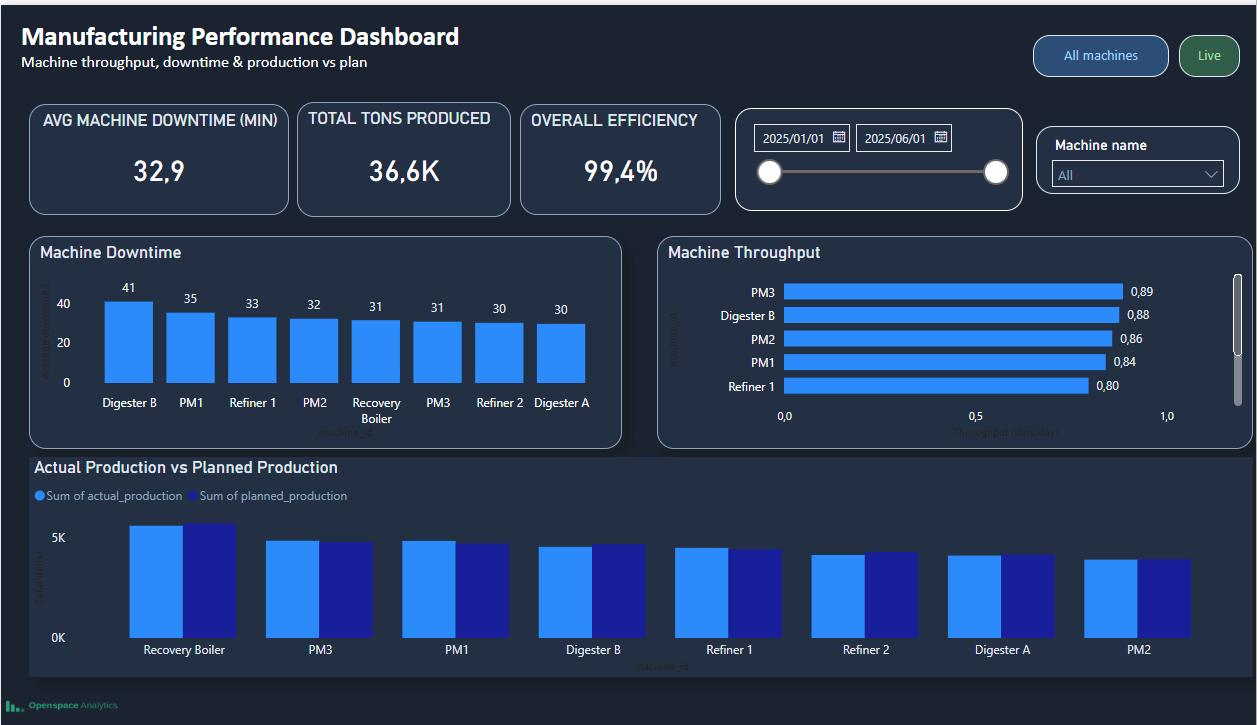

What the dashboard file says about the page in this screenshot:
{"tool":"powerbi","page":{"name":"Page 1","canvas":[1280,720],"ordinal":0},"visuals":[{"type":"card","title":"TOTAL TONS PRODUCED","fields":{"Values":["Sum(analytics vw_machine_summary.total_production_tons)"]},"box":[296.4,96.5,213.5,114.7],"z":0,"group":"g2"},{"type":"clusteredBarChart","title":"Machine Throughput","fields":{"Category":["analytics vw_machine_performance.machine_id"],"Y":["Avg(analytics vw_machine_performance.avg_throughput_tons_per_day)"]},"box":[655.6,231.5,596.2,212],"z":0},{"type":"clusteredColumnChart","title":"Machine Downtime ","fields":{"Category":["analytics vw_machine_performance.machine_id"],"Y":["Avg(analytics vw_machine_performance.avg_downtime_minutes)"]},"box":[28.2,231.5,592.3,212],"z":1000},{"type":"clusteredColumnChart","title":"Actual Production vs Planned Production ","fields":{"Y":["Sum(analytics vw_machine_summary.actual_production)","Sum(analytics vw_machine_summary.planned_production)"],"Category":["analytics machine_dim.machine_id"]},"box":[28.2,452.3,1223.6,219.8],"z":2000},{"type":"textbox","box":[14.6,9.7,564.1,62.2],"z":3000},{"type":"card","title":"OVERALL EFFICIENCY","fields":{"Values":["analytics date_dim.Production Efficiency"]},"box":[519,99,201,111],"z":4000},{"type":"textbox","box":[1032,30.2,136.2,41.8],"z":5000},{"type":"card","title":"AVG MACHINE DOWNTIME (MIN)","fields":{"Values":["Avg(analytics vw_machine_downtime_analysis.avg_downtime_minutes)"]},"box":[28.4,98.8,260.1,111.3],"z":5000,"group":"g1"},{"type":"textbox","box":[1177.9,30.2,61.3,41.8],"z":6000},{"type":"slicer","fields":{"Values":["analytics machine_dim.machine_id"]},"box":[1035,121,204,68],"z":7000},{"type":"group","id":"g1","title":"Group 1","box":[28.4,98.8,260.1,111.3],"z":8000},{"type":"group","id":"g2","title":"Group 2","box":[296.4,96.5,213.5,114.7],"z":9000},{"type":"image","box":[0,678.9,208.1,40.9],"z":10000},{"type":"slicer","fields":{"Values":["analytics date_dim.production_month"]},"box":[734,103,288,103],"z":11000}]}

Visuals, with their boxes in screenshot pixels (x1, y1, x2, y2), scaled from the page's 1280x720 canvas onto the 1257x725 screenshot:
"TOTAL TONS PRODUCED" card: [291,97,501,213]
"Machine Throughput" clusteredBarChart: [644,233,1229,447]
"Machine Downtime " clusteredColumnChart: [28,233,609,447]
"Actual Production vs Planned Production " clusteredColumnChart: [28,455,1229,677]
textbox: [14,10,568,72]
"OVERALL EFFICIENCY" card: [510,100,707,211]
textbox: [1013,30,1147,72]
"AVG MACHINE DOWNTIME (MIN)" card: [28,99,283,212]
textbox: [1157,30,1217,72]
slicer - analytics machine_dim.machine_id: [1016,122,1217,190]
"Group 1" group: [28,99,283,212]
"Group 2" group: [291,97,501,213]
image: [0,684,204,724]
slicer - analytics date_dim.production_month: [721,104,1004,207]
